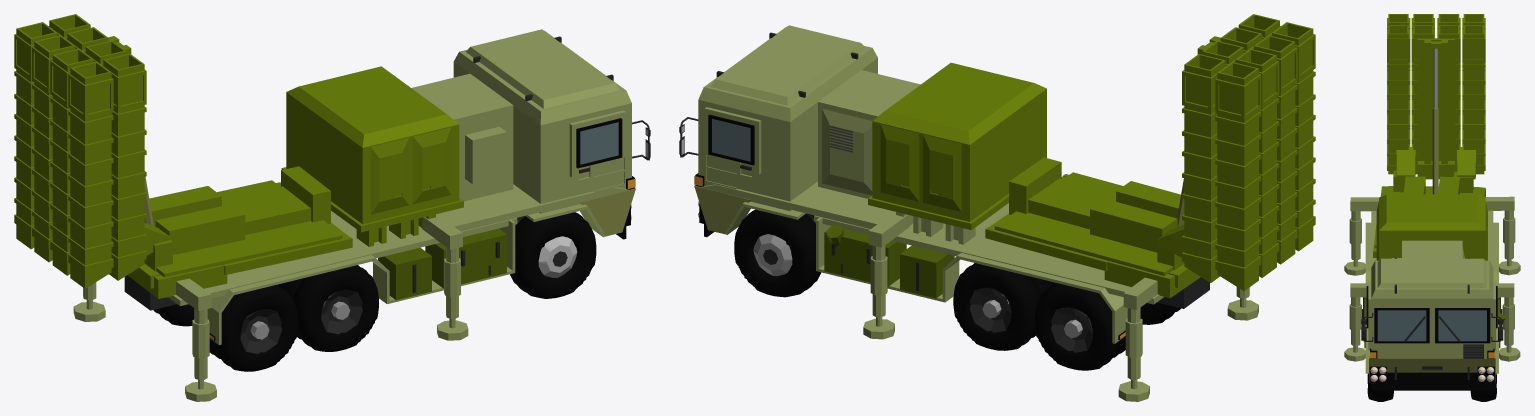
File: Patriot.fbx
3 renders of one model, left to right at view 1: azimuth 30°, elevation 25°; view 2: azimuth 150°, elevation 25°; view 3: azimuth 270°, elevation 25°, orthographic. The views are drawn at different scales.
Visible parts, largest first — view 1: Truck, Rocket mine, Tower; view 2: Truck, Rocket mine, Tower; view 3: Truck, Rocket mine, Tower, Circle, Circle.001.
Part boxes in pixels (x1,y1,x2,y2): Truck: (124, 29, 650, 371); Rocket mine: (14, 14, 171, 288); Tower: (73, 166, 352, 401); Truck: (679, 25, 1209, 370); Rocket mine: (1157, 14, 1315, 290); Tower: (985, 157, 1258, 401); Truck: (1344, 194, 1520, 401); Rocket mine: (1387, 14, 1485, 179); Tower: (1344, 170, 1520, 275); Circle: (1432, 108, 1438, 194); Circle.001: (1433, 48, 1437, 108).
Size of the model in its own units: 2028 by 1145 by 808.
